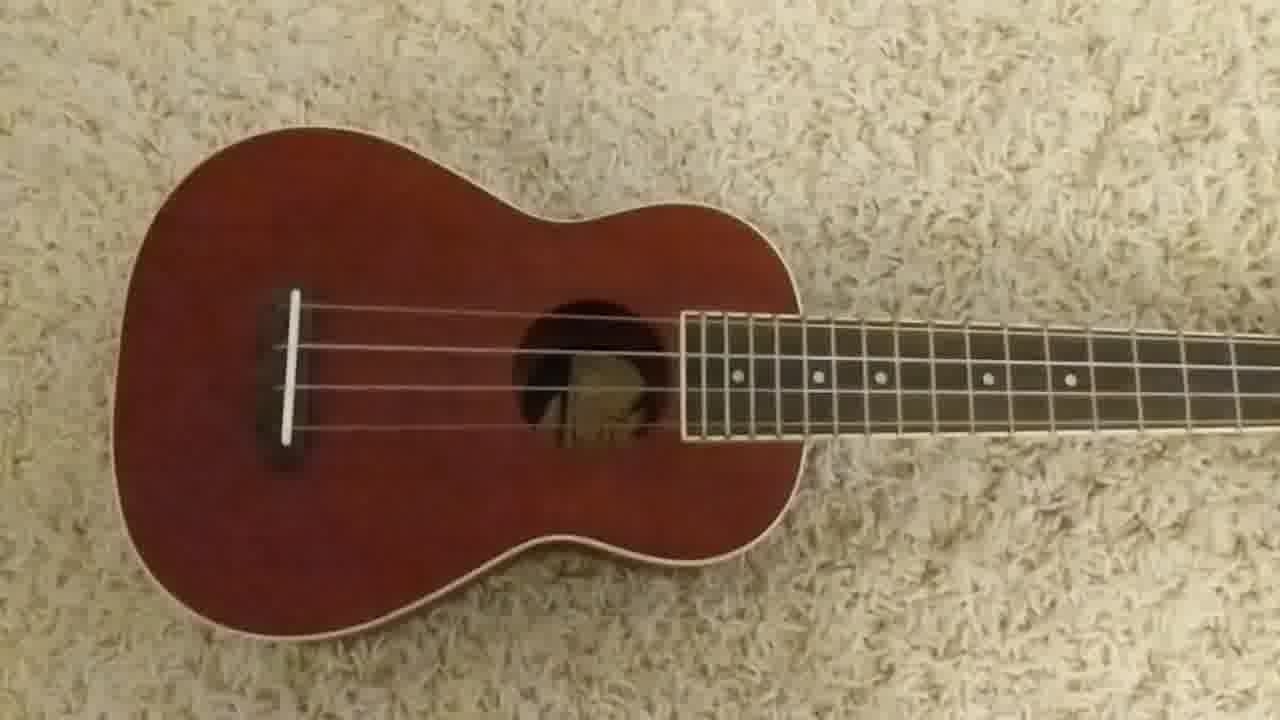Body: (115, 124, 814, 654)
Bridge: (260, 285, 321, 460)
